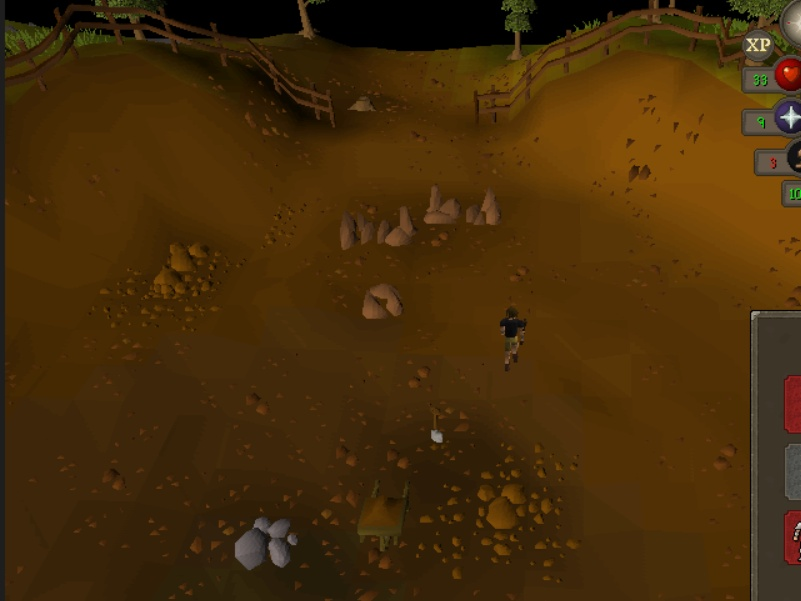copper: (377, 195, 418, 264), (356, 275, 412, 322), (464, 185, 521, 229), (334, 203, 377, 260), (424, 183, 466, 236)
